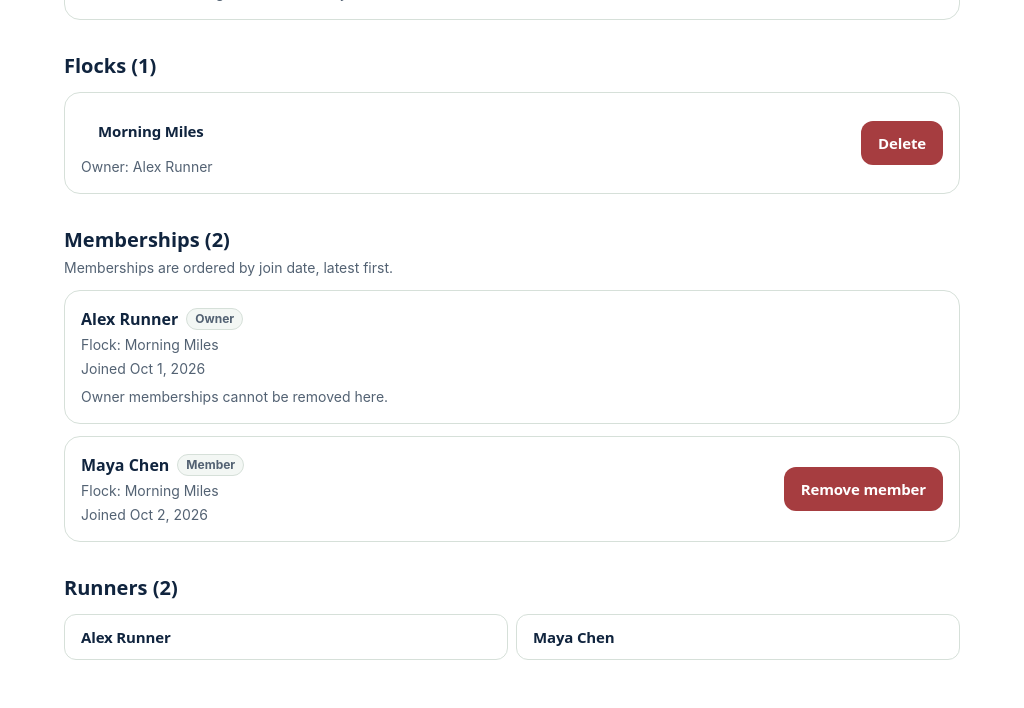
Test: AdminPage › confirms a membership removal and waits for server success
(page scrolled)
Click the button "Remove member" at [863, 489], box [784, 467, 943, 511]
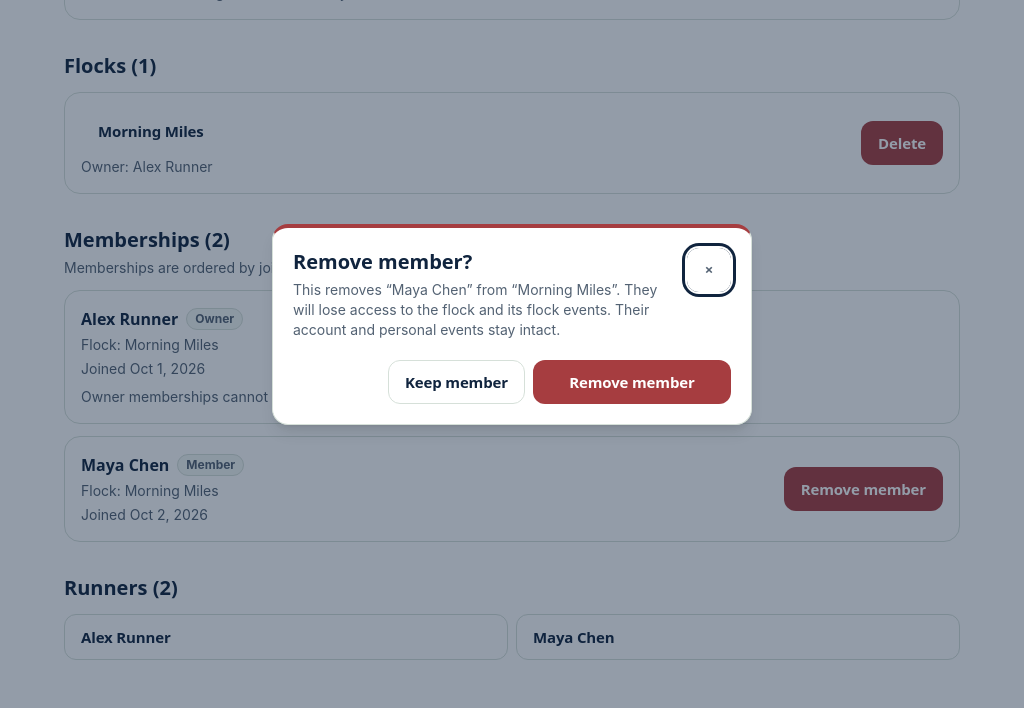
Expected: the dialog "Remove member?" shows "They will lose access to the flock and its flock events.", [293, 280, 657, 338]
Expected: the dialog "Remove member?" shows "Their account and personal events stay intact.", [293, 280, 657, 338]
Click the button "Remove member" at [632, 382], box [533, 360, 731, 404]
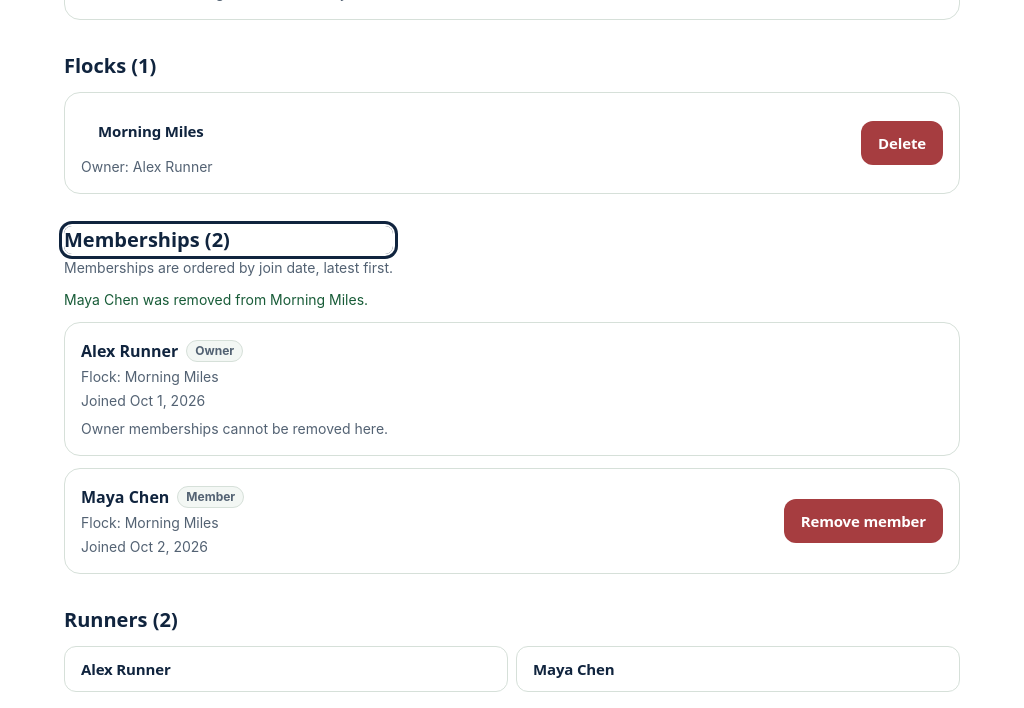
Expected: the dialog "Remove member?" is not shown
Expected: the message reads "Maya Chen was removed from Morning Miles.", [64, 291, 368, 308]
